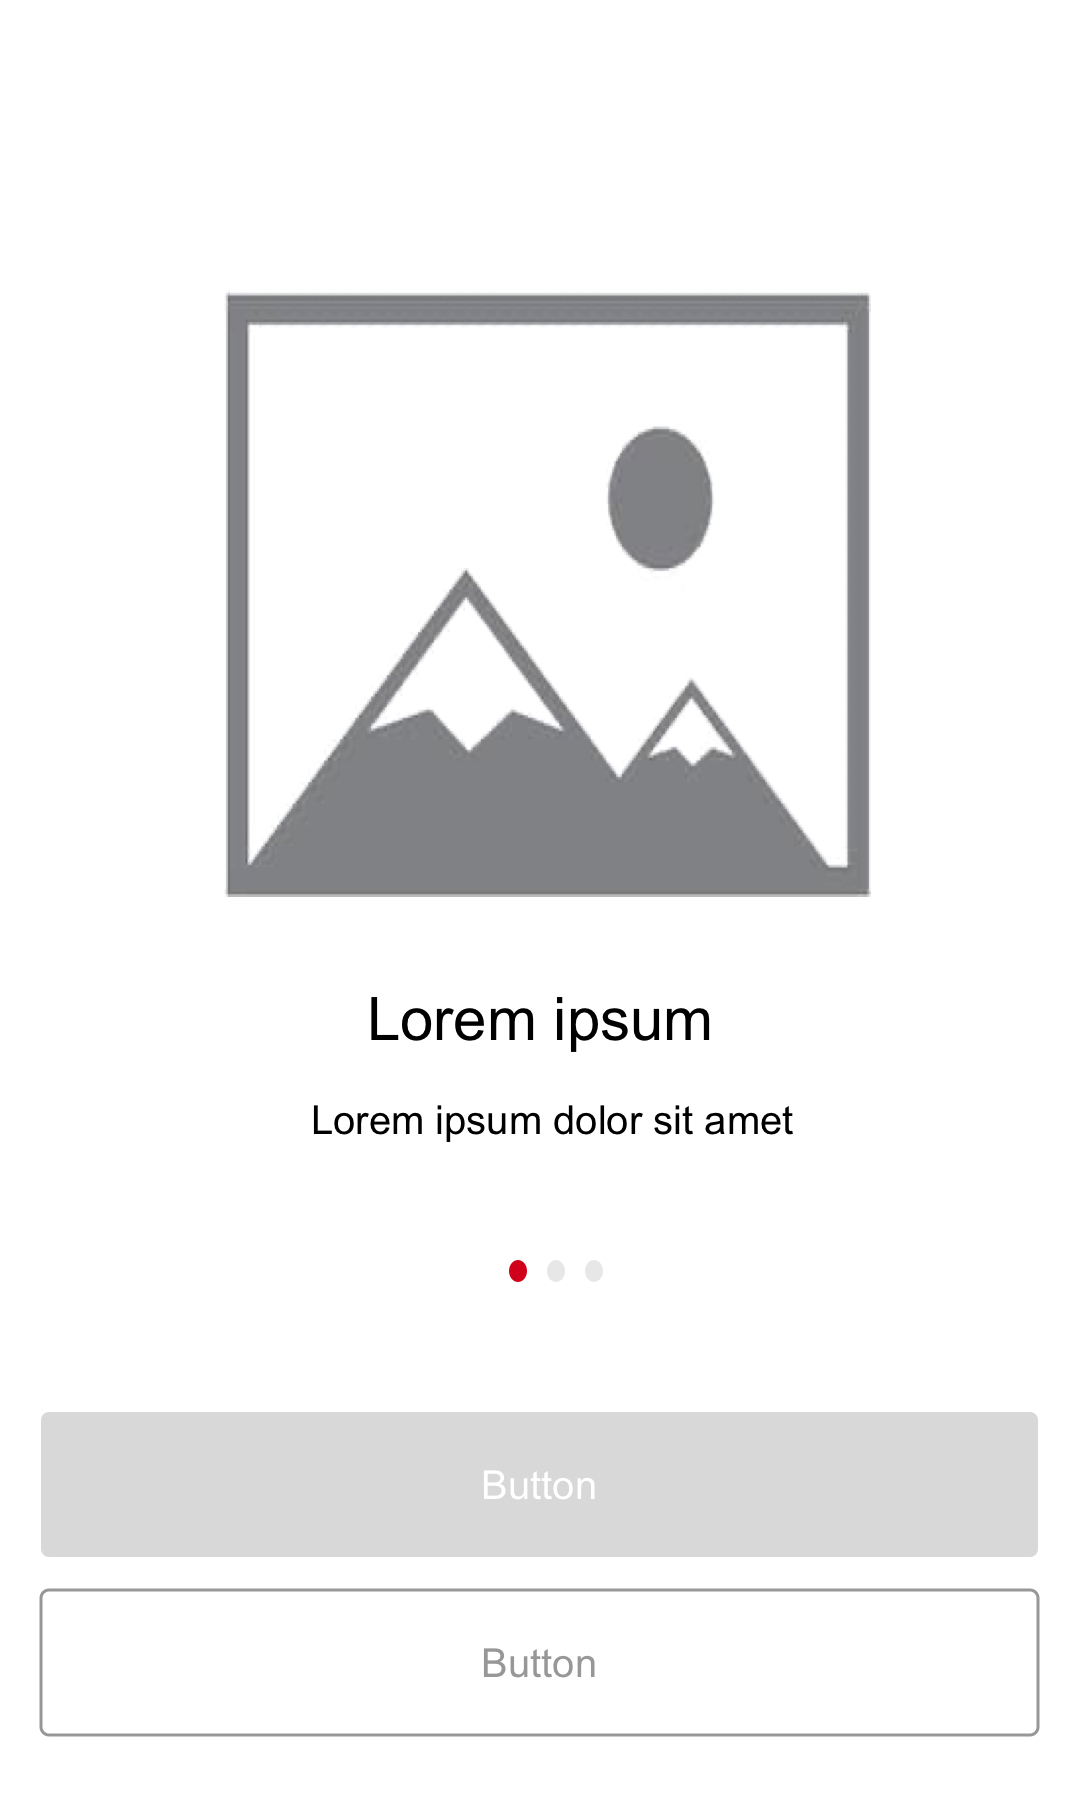Image: (225, 293, 872, 898)
PageIndicator: (509, 1258, 603, 1283)
Text: (372, 996, 710, 1053), (313, 1105, 794, 1143)
TextButton: (38, 1586, 1042, 1738), (41, 1411, 1039, 1558)
